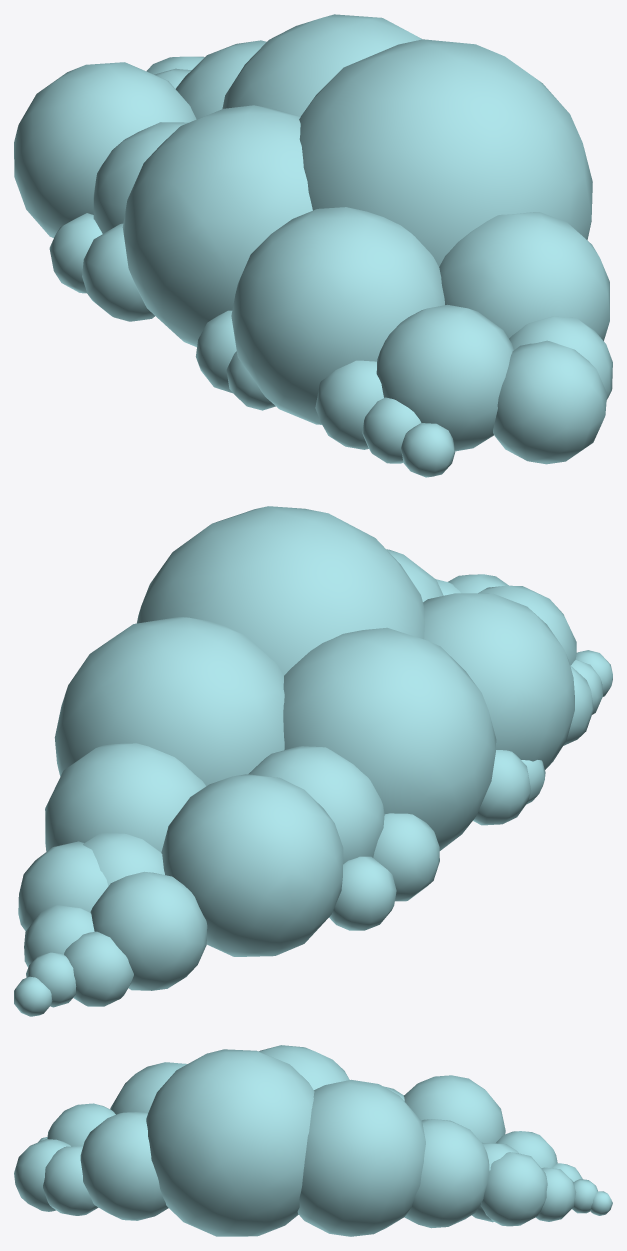
Rendered from Cloud 1.fbx.
3 renders of one model, top to bottom at view 1: azimuth 30°, elevation 25°; view 2: azimuth 150°, elevation 25°; view 3: azimuth 270°, elevation 25°, orthographic. The views are drawn at different scales.
Parts seen in each view (by area): view 1: Cloud-Lowpoly; view 2: Cloud-Lowpoly; view 3: Cloud-Lowpoly.
Part boxes in pixels (x1,y1,x2,y2): Cloud-Lowpoly: (14, 14, 612, 477); Cloud-Lowpoly: (14, 506, 612, 1016); Cloud-Lowpoly: (14, 1045, 612, 1236).
Bounding box in the file's own units: 506 × 359 × 1132.
